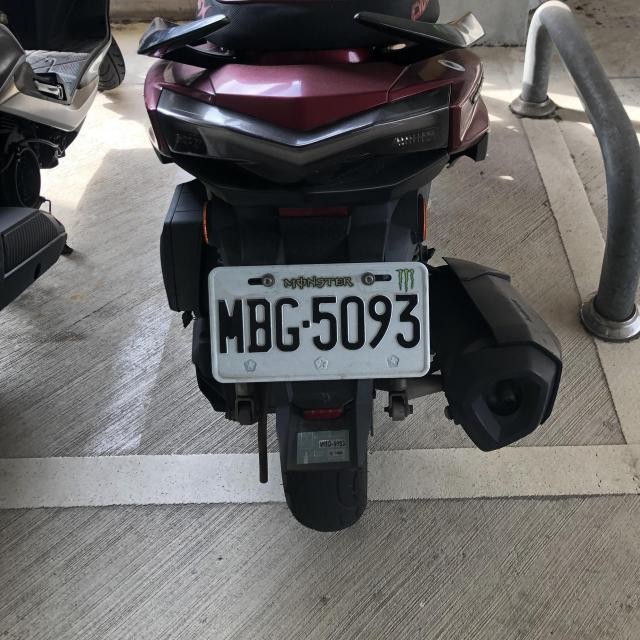W: (207, 262, 428, 382)
